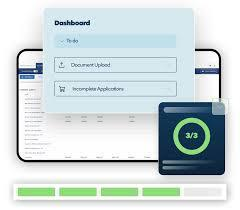icon: (58, 83, 67, 94), (58, 61, 67, 70)
input: (55, 82, 178, 98), (55, 59, 178, 73), (55, 35, 177, 49)
